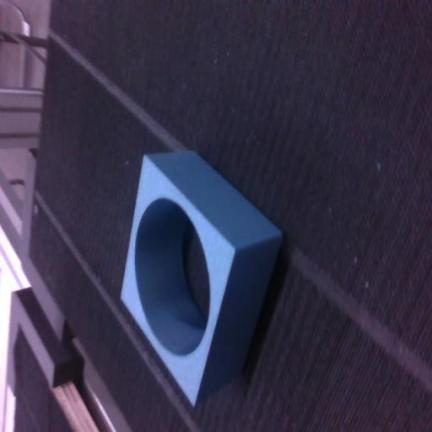square: (122, 152, 281, 404)
